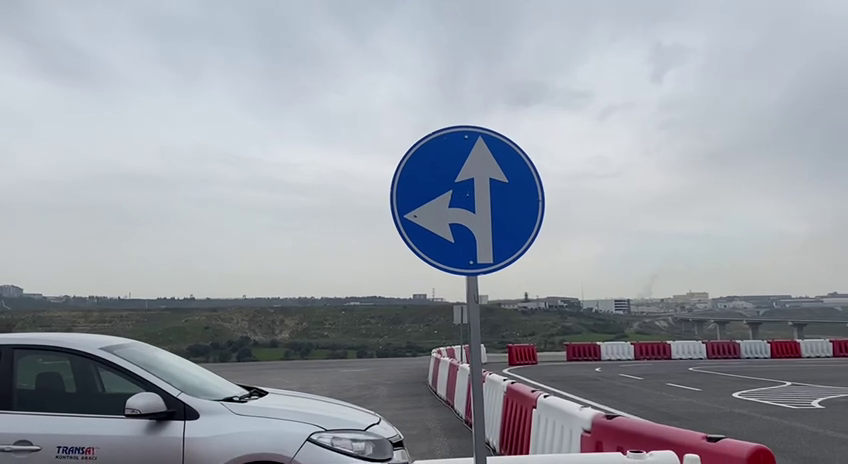forwardAndLeft: (385, 121, 549, 279)
